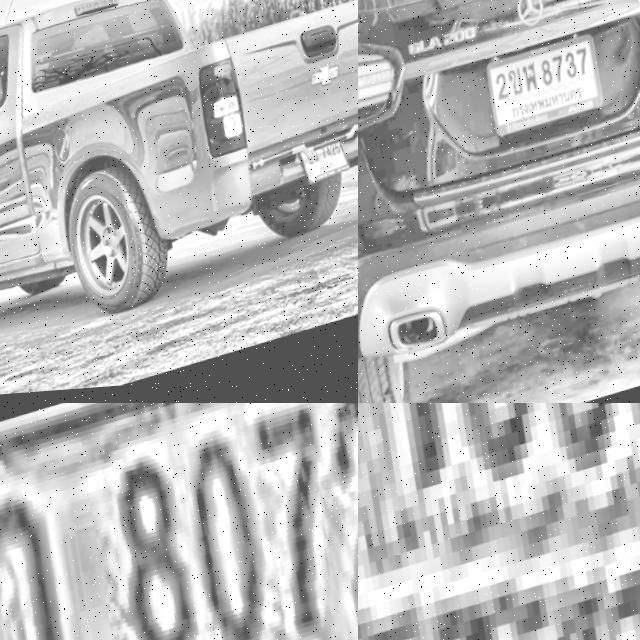license-plate: (0, 403, 358, 640), (358, 403, 640, 640), (482, 35, 614, 146), (300, 141, 358, 195)
